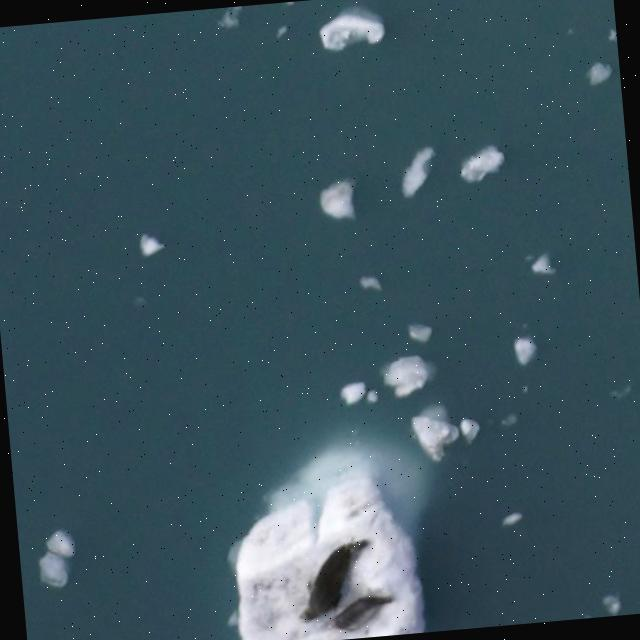seal: (295, 527, 369, 631), (329, 584, 394, 631)
